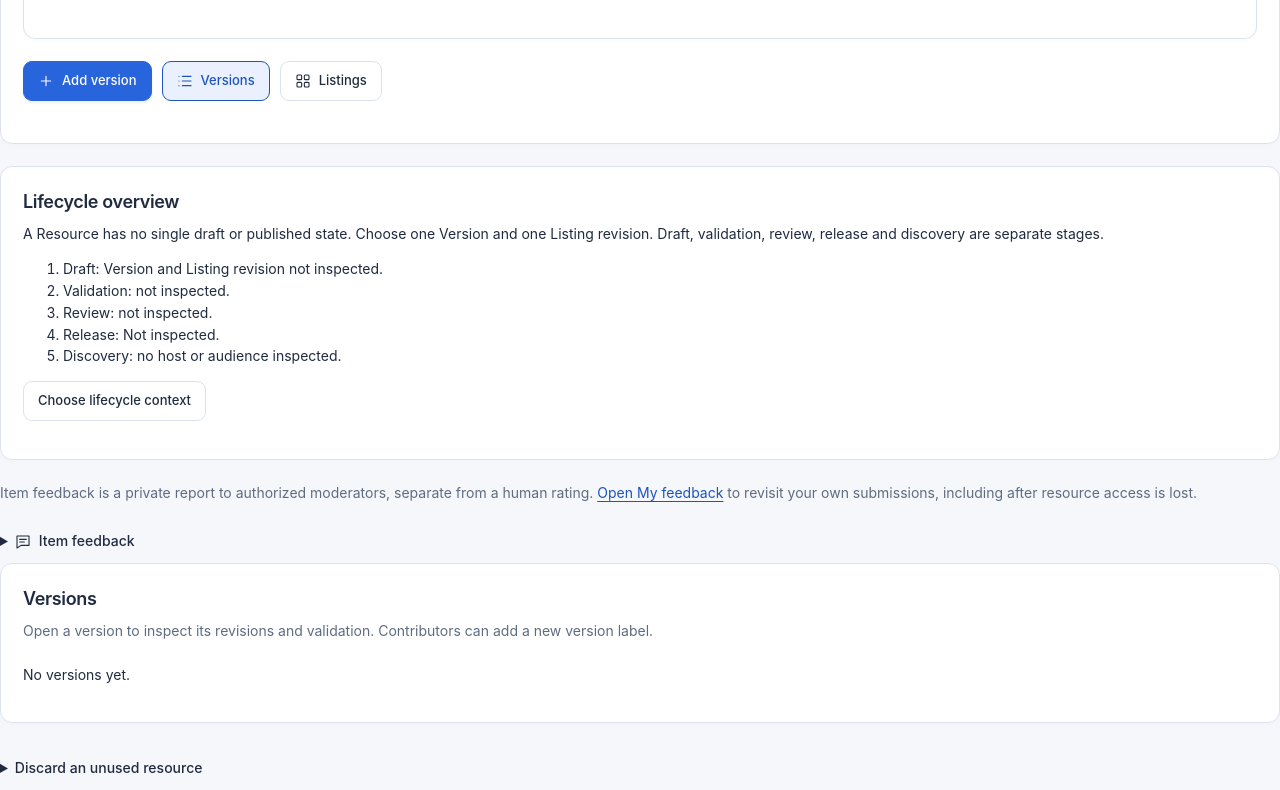
Test case: handles resource deletion HTTP 204 with exact revision and reason
(page scrolled)
expect the text "No versions yet." is shown: met, box top-left (23, 666), bottom-right (130, 683)
Click the heading "Discard an unused resource": (109, 767) top-left (15, 759), bottom-right (202, 776)
(page scrolled)
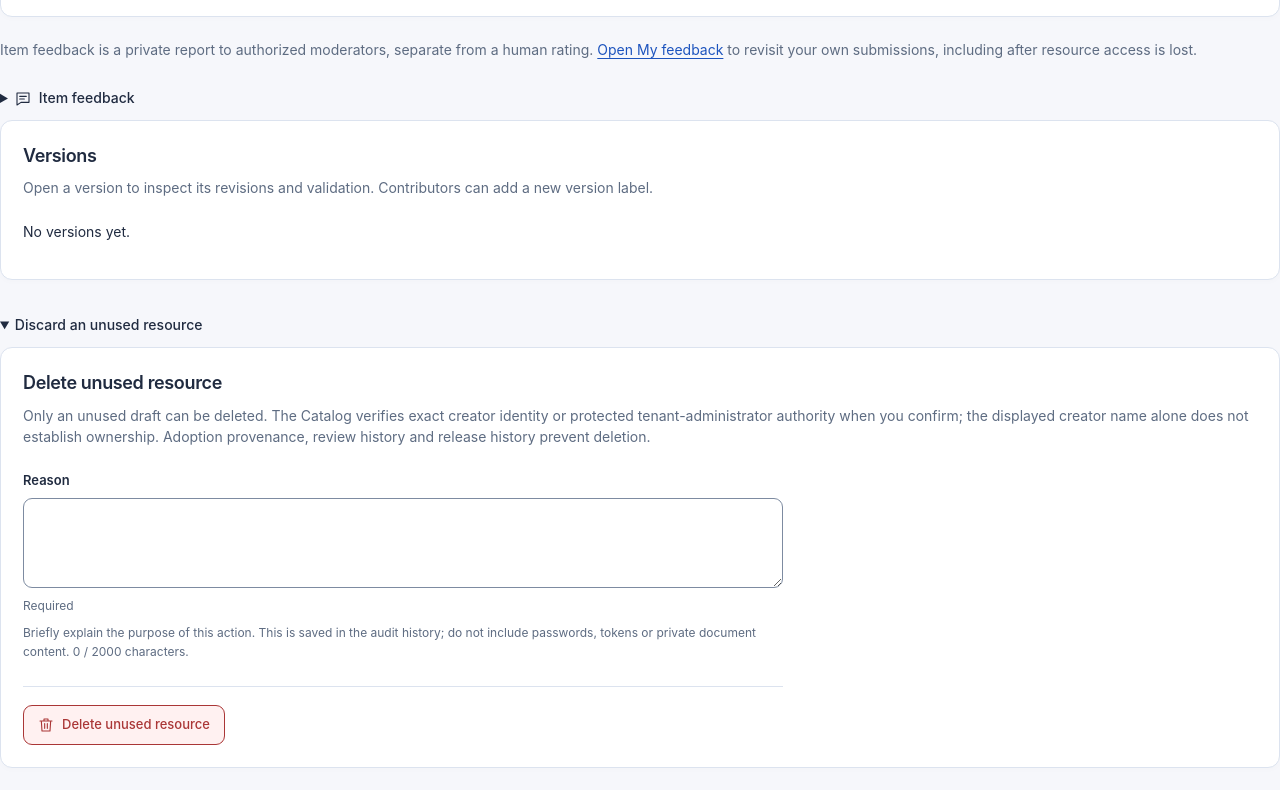
In the text box labelled "Reason": (403, 543) top-left (23, 498), bottom-right (783, 588), type "  Remove draft  "
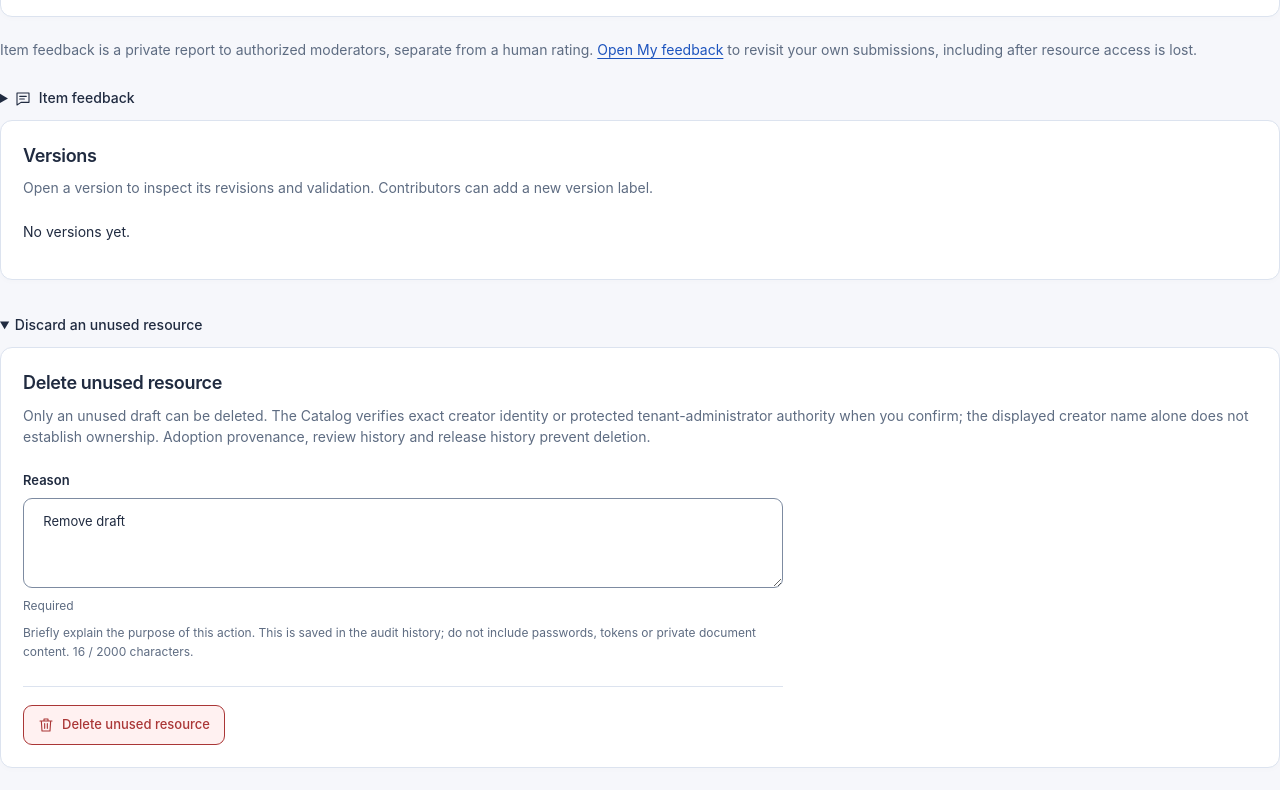
Click the button "Delete unused resource": (124, 725) top-left (23, 705), bottom-right (225, 745)
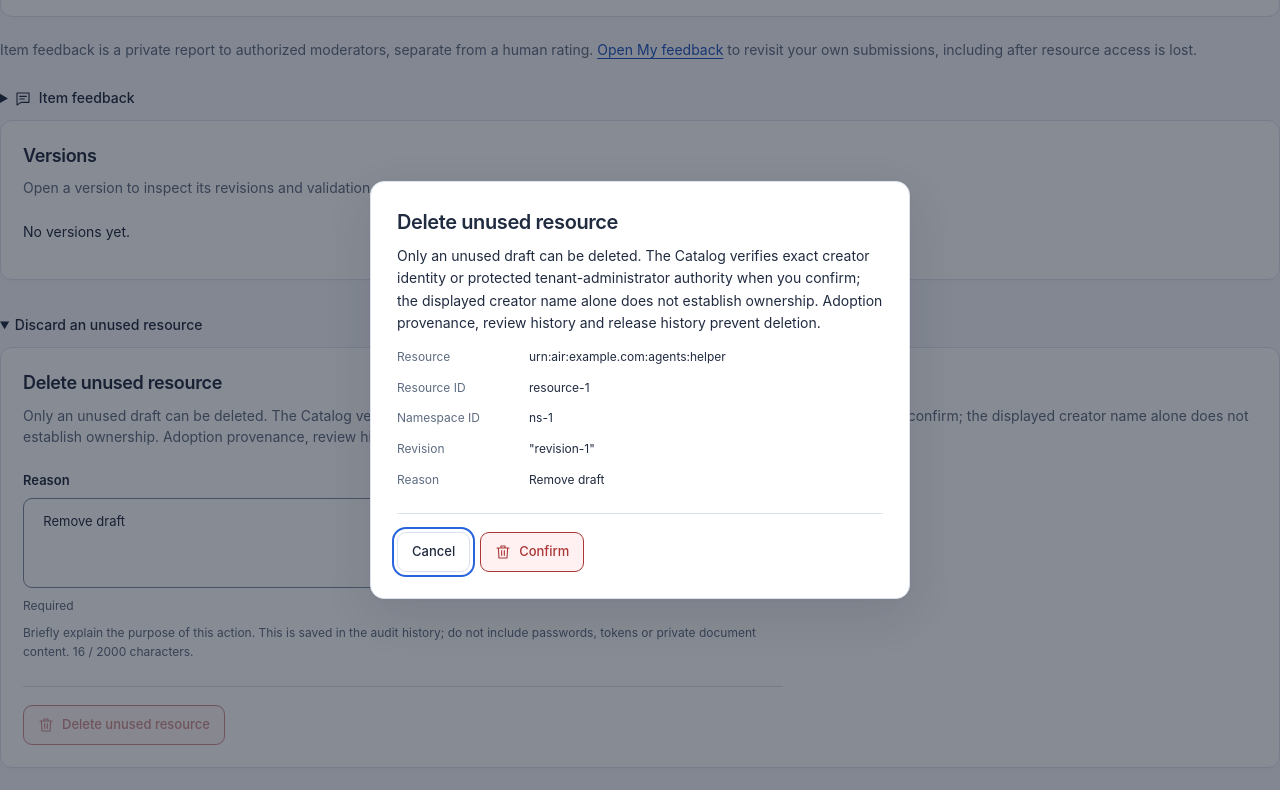
Click the button "Confirm": (532, 552) top-left (480, 532), bottom-right (584, 572)
(page scrolled)
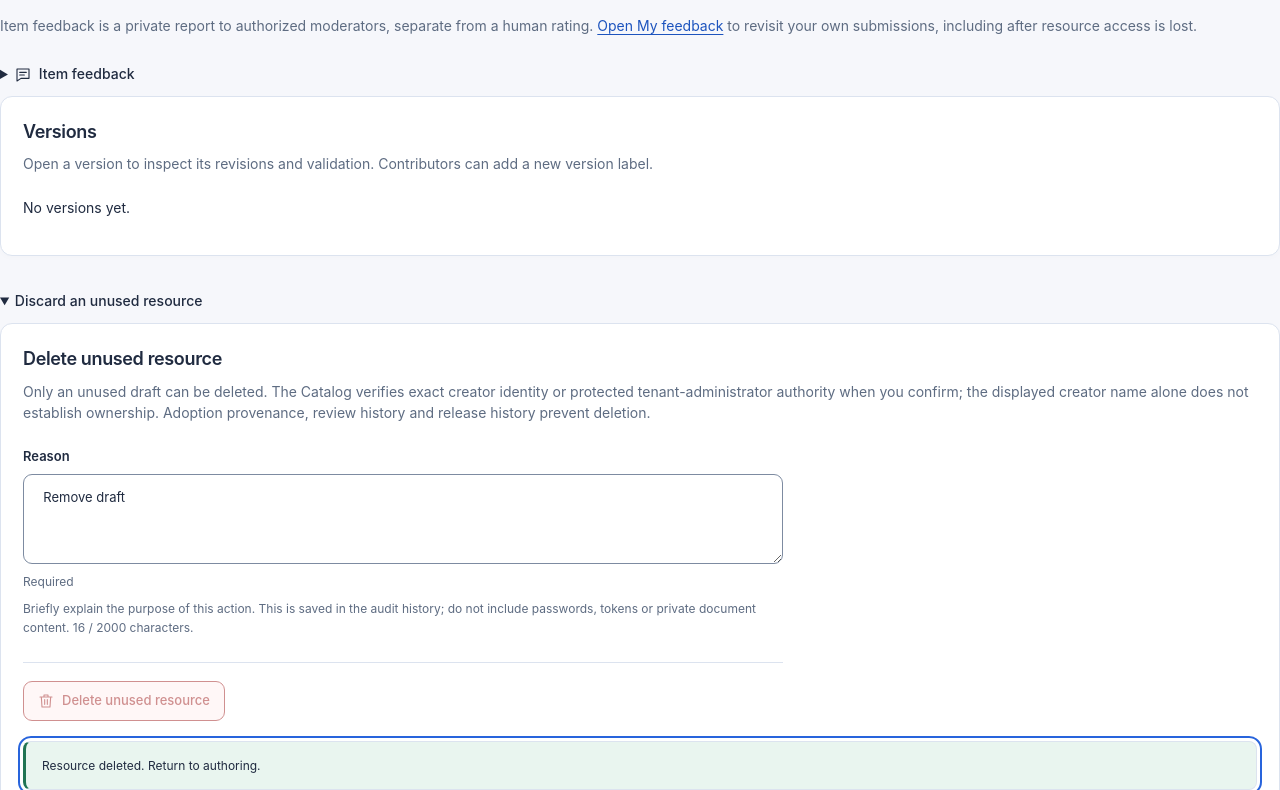
expect the text "Resource deleted. Return to authoring." is shown: met, box top-left (23, 741), bottom-right (1257, 789)
